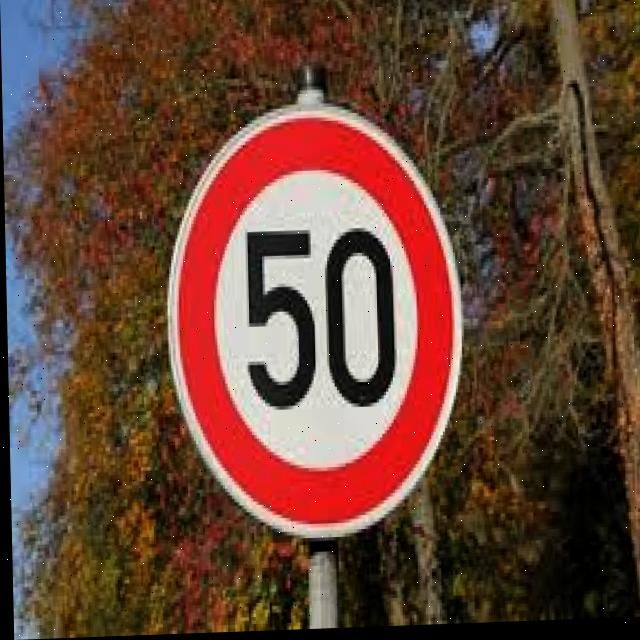Speed limit 50: (159, 96, 467, 549)
